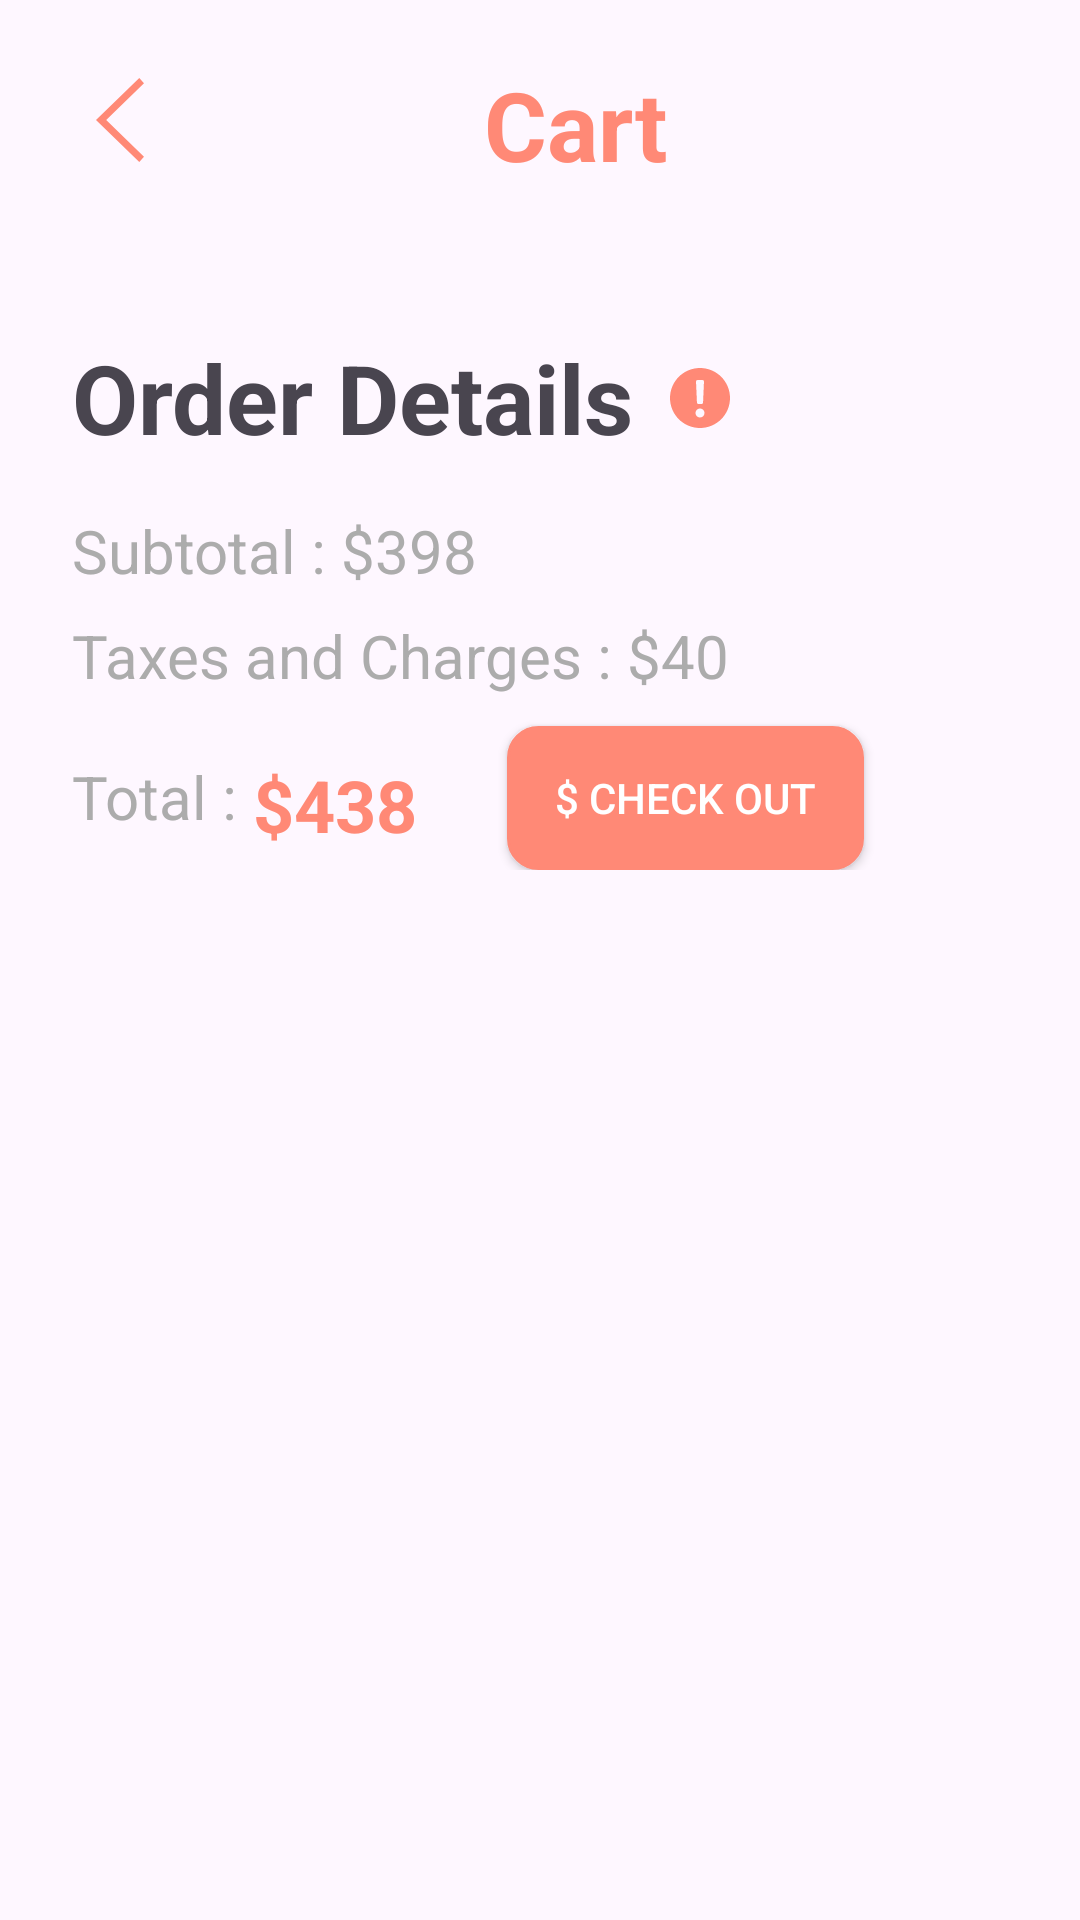

Point at icon controls on the screen. Image size 1080×1920, points as point (x, y).
error: point (700, 398)
left arrow: point (120, 120)
